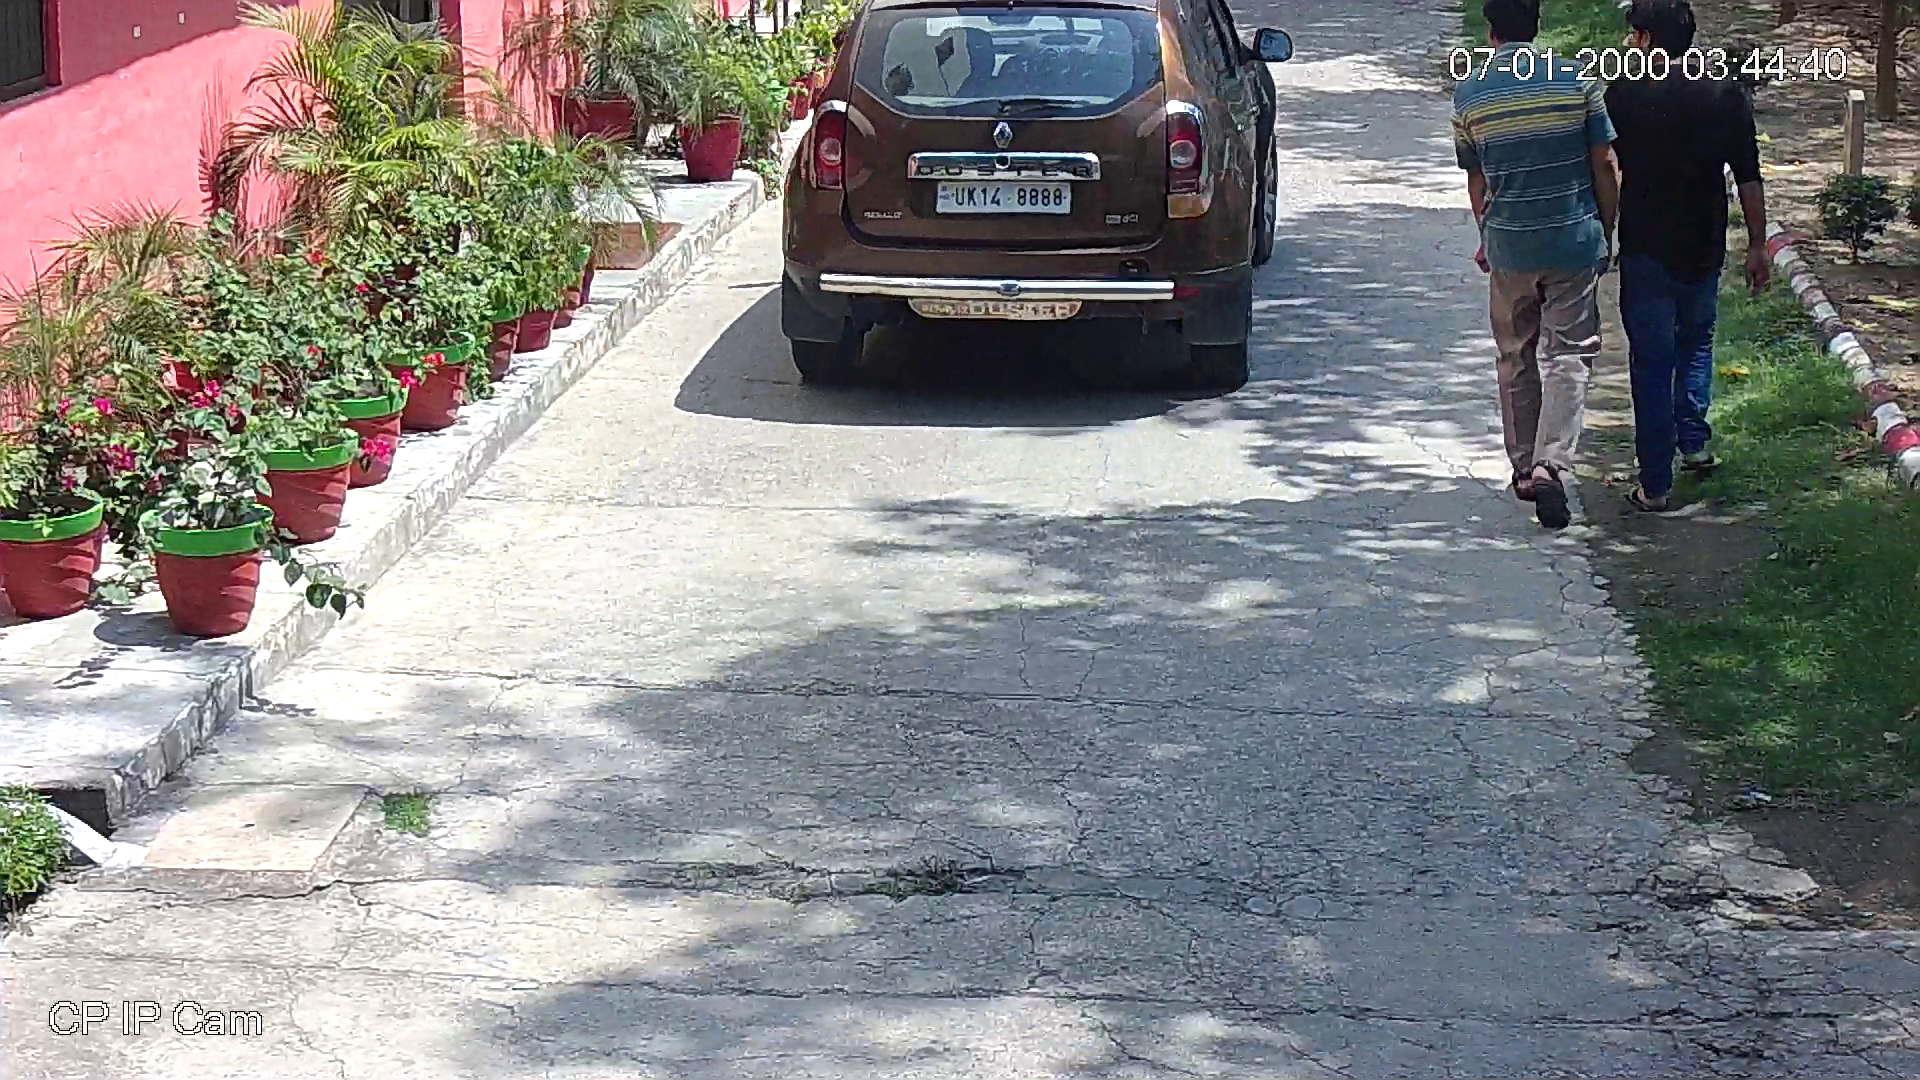plate: (938, 182, 1069, 217)
